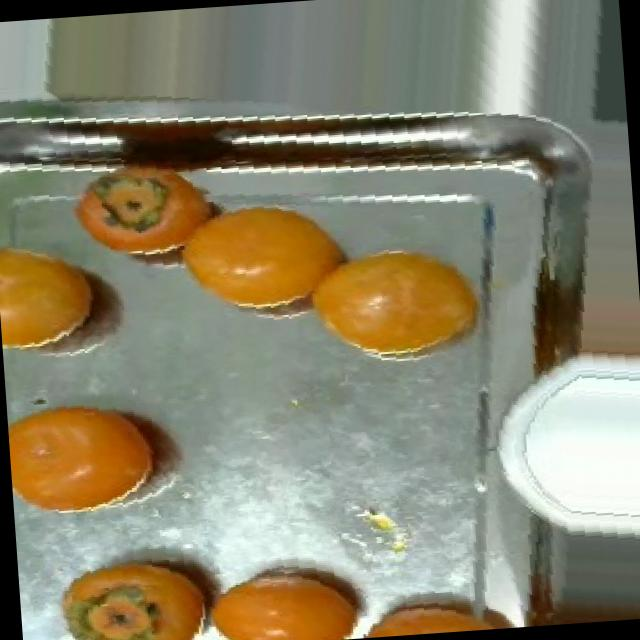Fruit: (4, 378, 188, 536), (0, 221, 144, 374), (38, 539, 231, 640), (190, 546, 392, 640), (342, 576, 528, 639)
